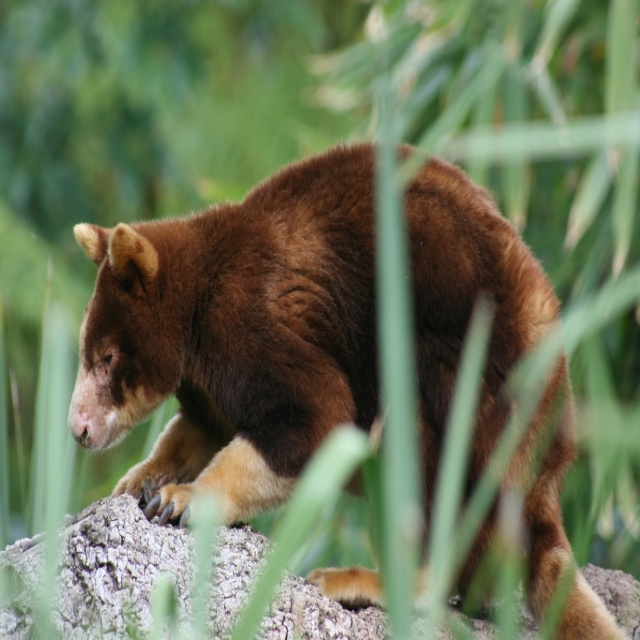Bear: (68, 136, 631, 640)
